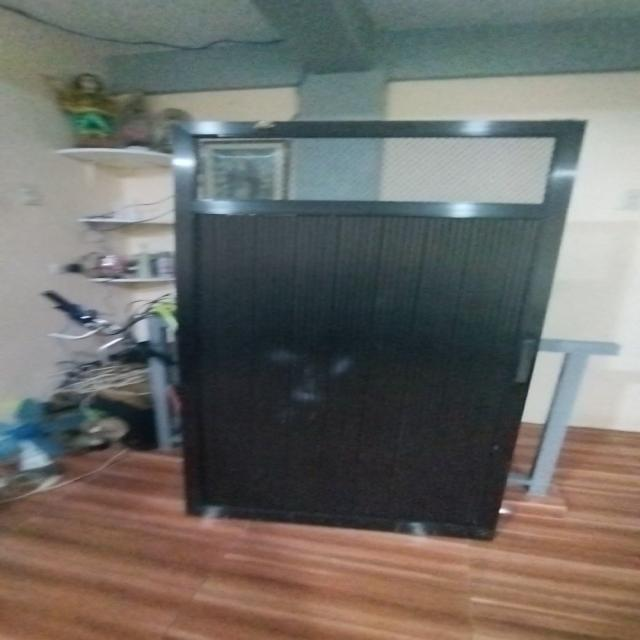door: (157, 109, 591, 545)
